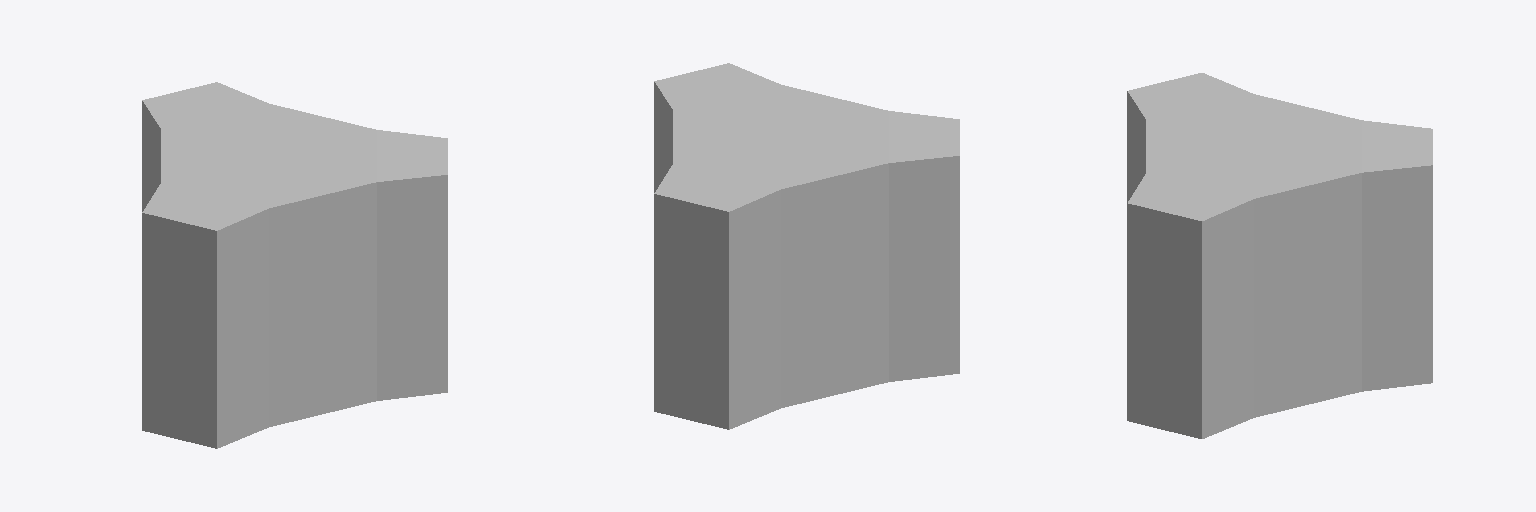
The model's file is top.obj.
3 renders of one model, left to right at view 1: azimuth 30°, elevation 25°; view 2: azimuth 150°, elevation 25°; view 3: azimuth 270°, elevation 25°, orthographic.
Visible parts, largest first — view 1: cylinder1_sep39; view 2: cylinder1_sep39; view 3: cylinder1_sep39.
Boxes of the visible parts, x1,y1,x2,y2 form: cylinder1_sep39: [142, 82, 447, 448]; cylinder1_sep39: [654, 63, 959, 429]; cylinder1_sep39: [1127, 73, 1432, 438].
Size of the model in its own units: 2.84 by 1.94 by 2.46.